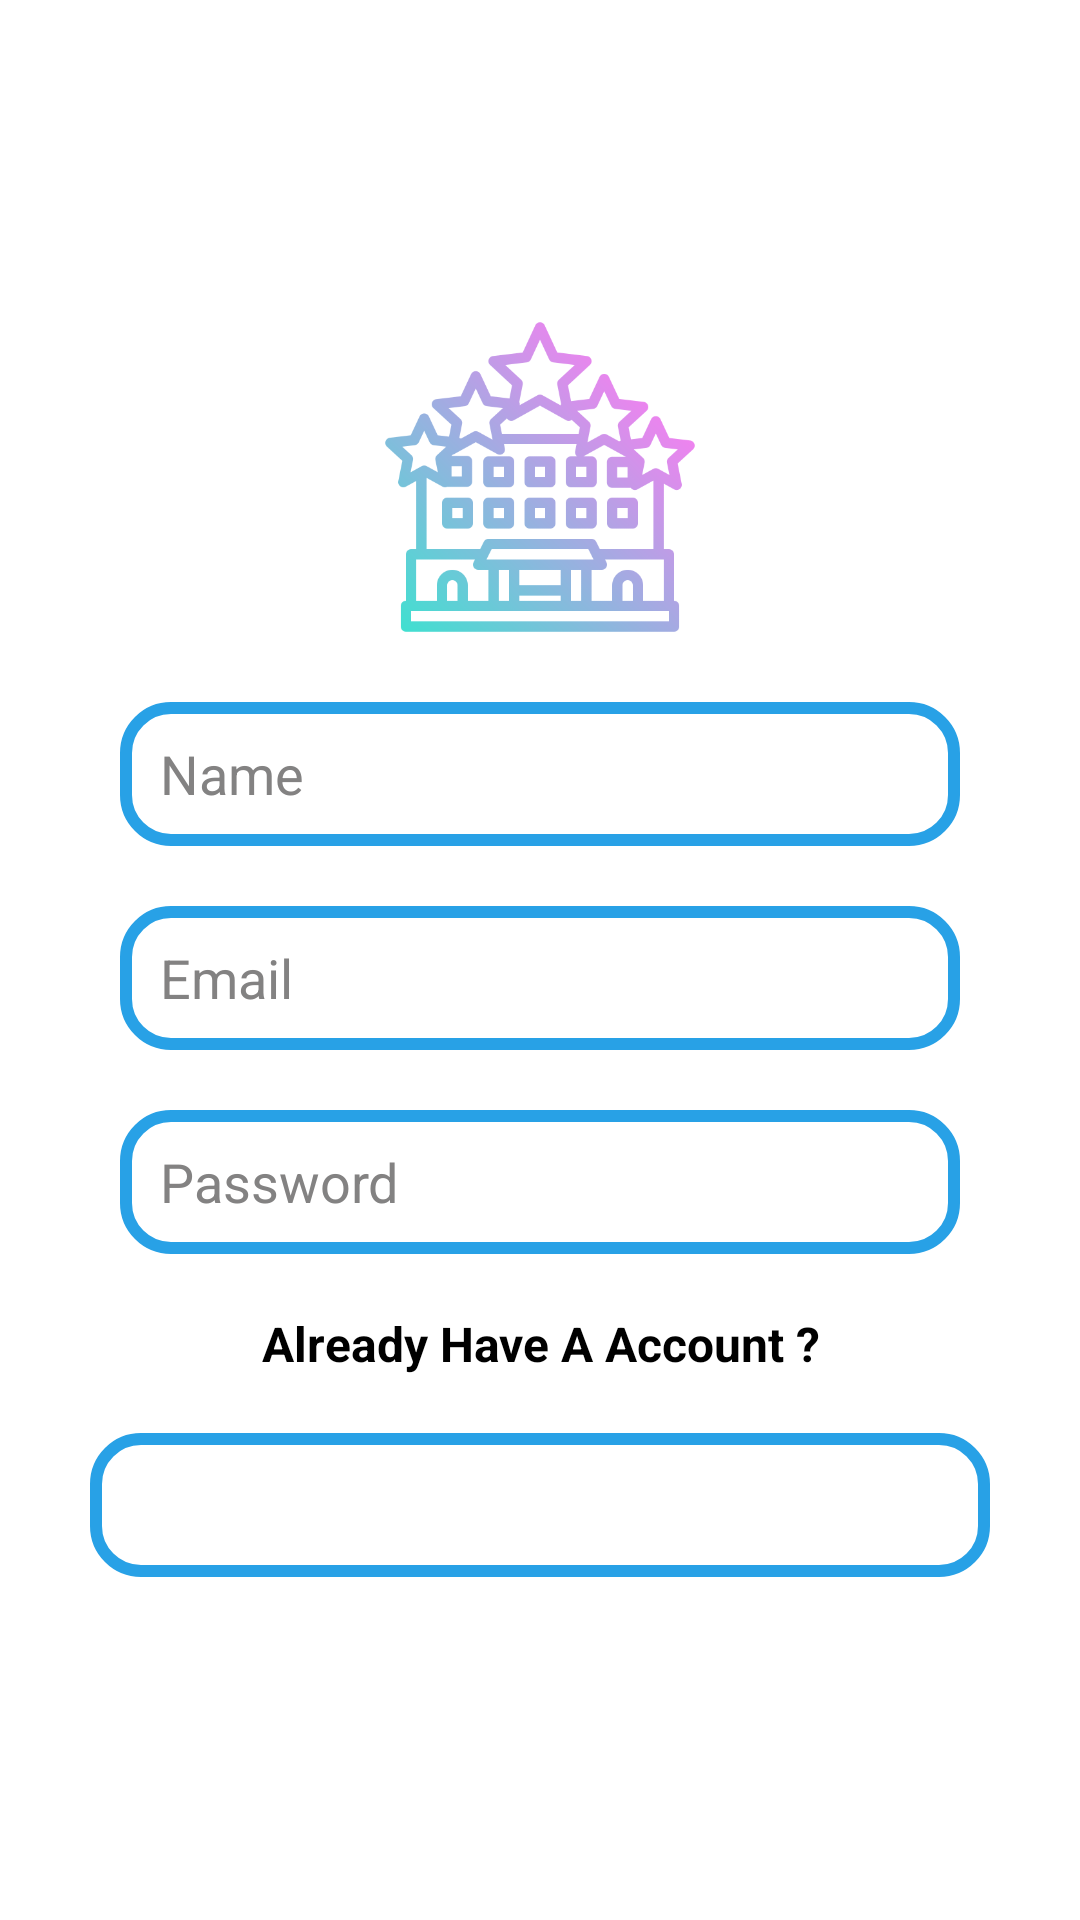

Where to tap for icons on this 1080×1920 app screen, as [x,y]:
hotel: [540,477]
